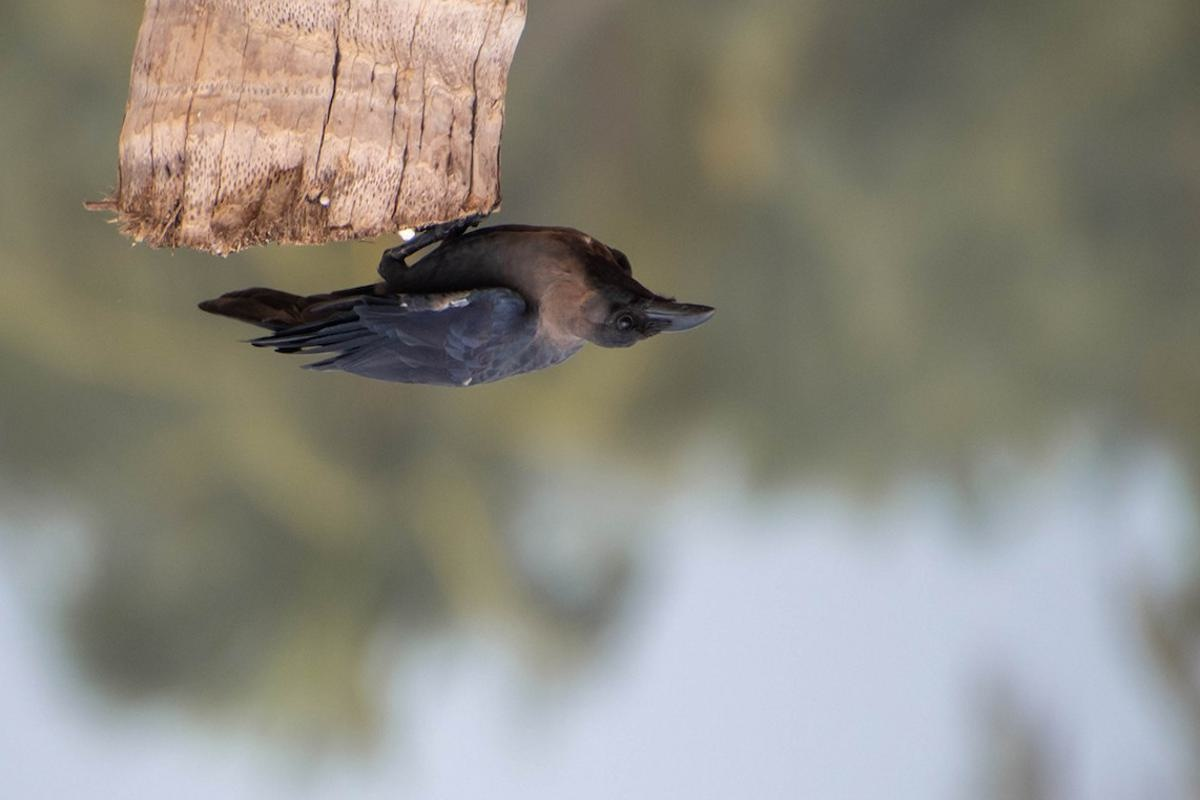crow: (223, 216, 736, 408)
